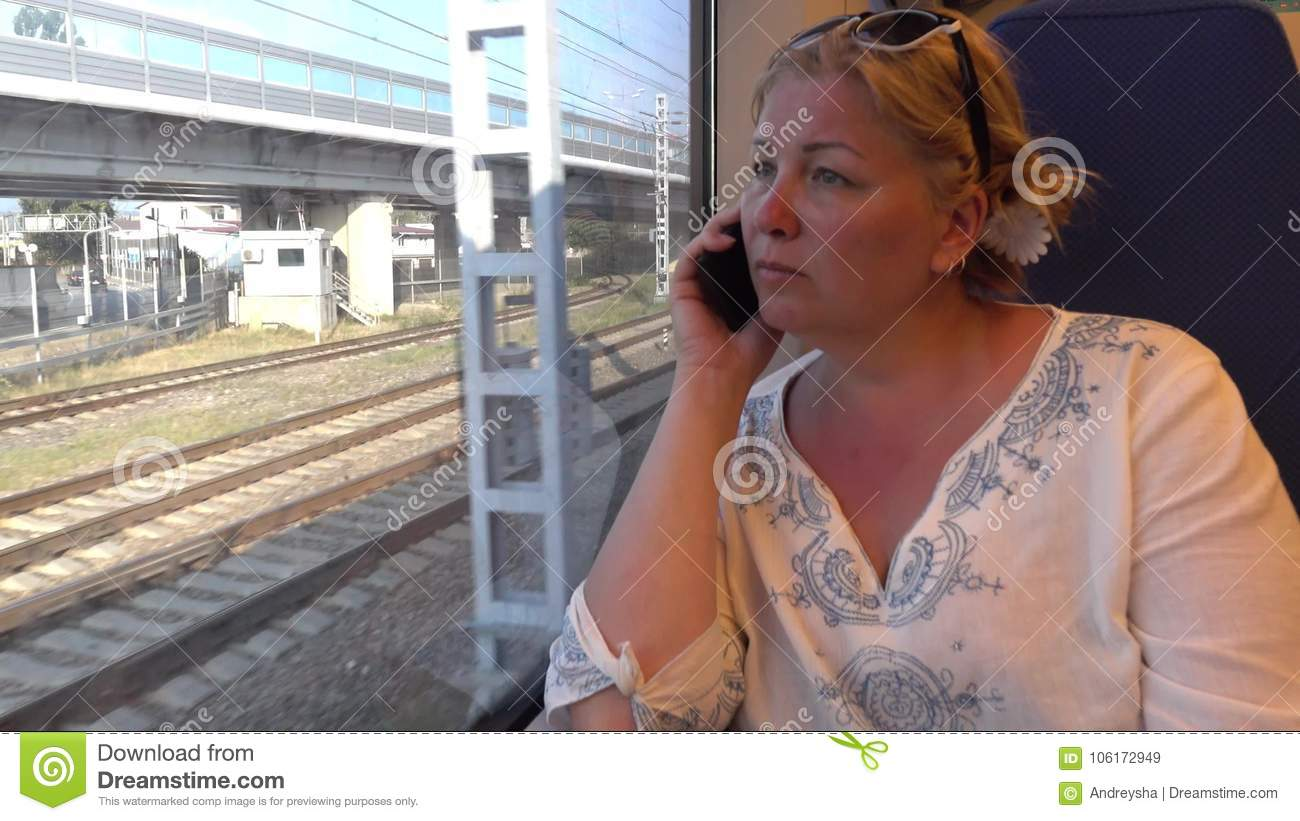phone: (693, 214, 753, 339)
talk: (669, 111, 885, 410)
